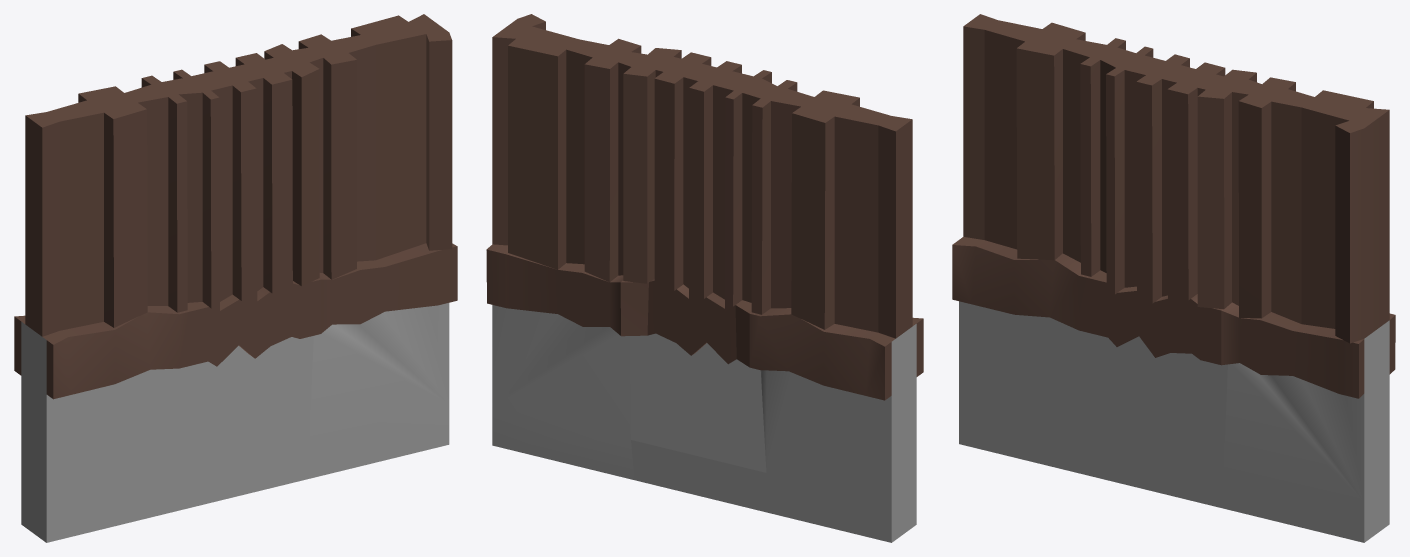
The model's file is Wood Wall Top.fbx.
The picture shows the model from 3 angles, left to right: view 1: azimuth 30°, elevation 25°; view 2: azimuth 150°, elevation 25°; view 3: azimuth 330°, elevation 25°; orthographic projection.
Parts seen in each view (by area): view 1: Wood_Wall_Top; view 2: Wood_Wall_Top; view 3: Wood_Wall_Top.
Part boxes in pixels (<box>): Wood_Wall_Top: <box>14,14,457,542</box>; Wood_Wall_Top: <box>486,14,923,542</box>; Wood_Wall_Top: <box>952,14,1395,542</box>.
Size of the model in its own units: 1.03 by 1 by 0.1812.
